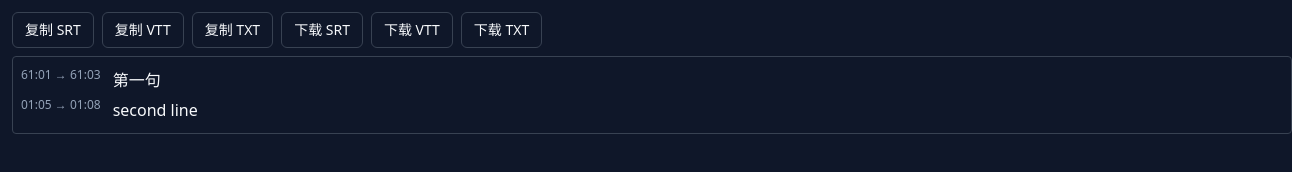
Test: 复制成功（execCommand 兜底路径）→ toast「已复制 TXT」
What coordinates should you click on to do the following:
click the button "复制 TXT"
I would click on:
 (232, 30)
Its box is x1=192 y1=12 x2=273 y2=48.
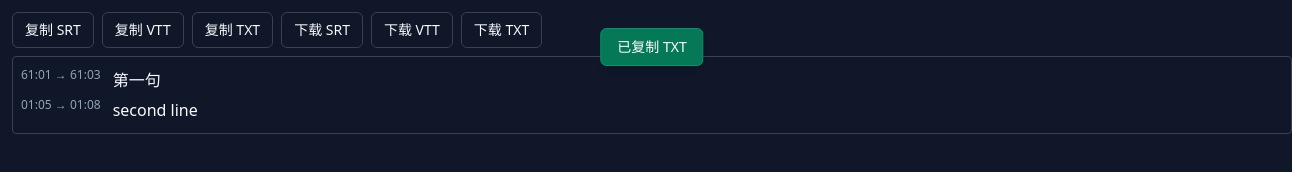
Expected: the text "已复制 TXT" is shown, x1=600 y1=28 x2=704 y2=66
